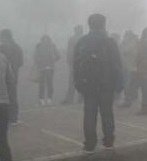person: (72, 13, 125, 153), (33, 35, 65, 108), (1, 29, 25, 126), (59, 23, 86, 105), (119, 30, 141, 106)
